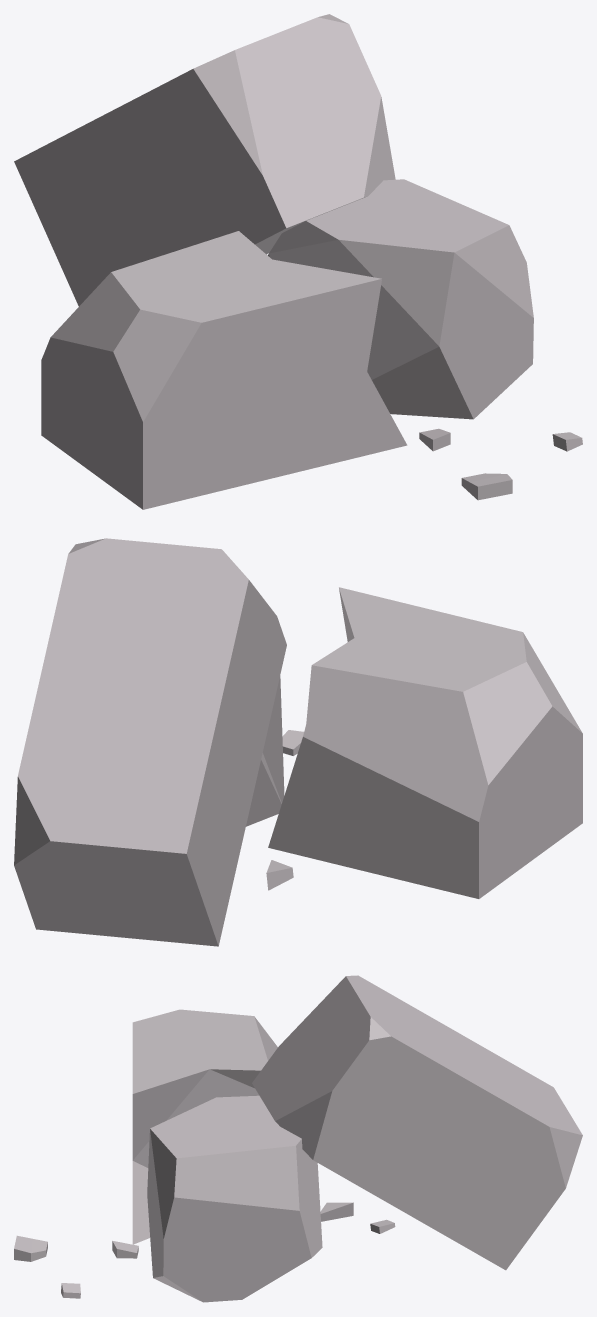
The model's file is Rock_Blocks_m_06.fbx.
3 renders of one model, top to bottom at view 1: azimuth 30°, elevation 25°; view 2: azimuth 150°, elevation 25°; view 3: azimuth 270°, elevation 25°, orthographic. The views are drawn at different scales.
Visible parts, largest first — view 1: Rock_Blocks_m_06; view 2: Rock_Blocks_m_06; view 3: Rock_Blocks_m_06.
Boxes of the visible parts, <box> form: Rock_Blocks_m_06: <box>14,14,582,509</box>; Rock_Blocks_m_06: <box>14,538,582,946</box>; Rock_Blocks_m_06: <box>14,975,582,1302</box>.
Size of the model in its own units: 149 by 122 by 220.
